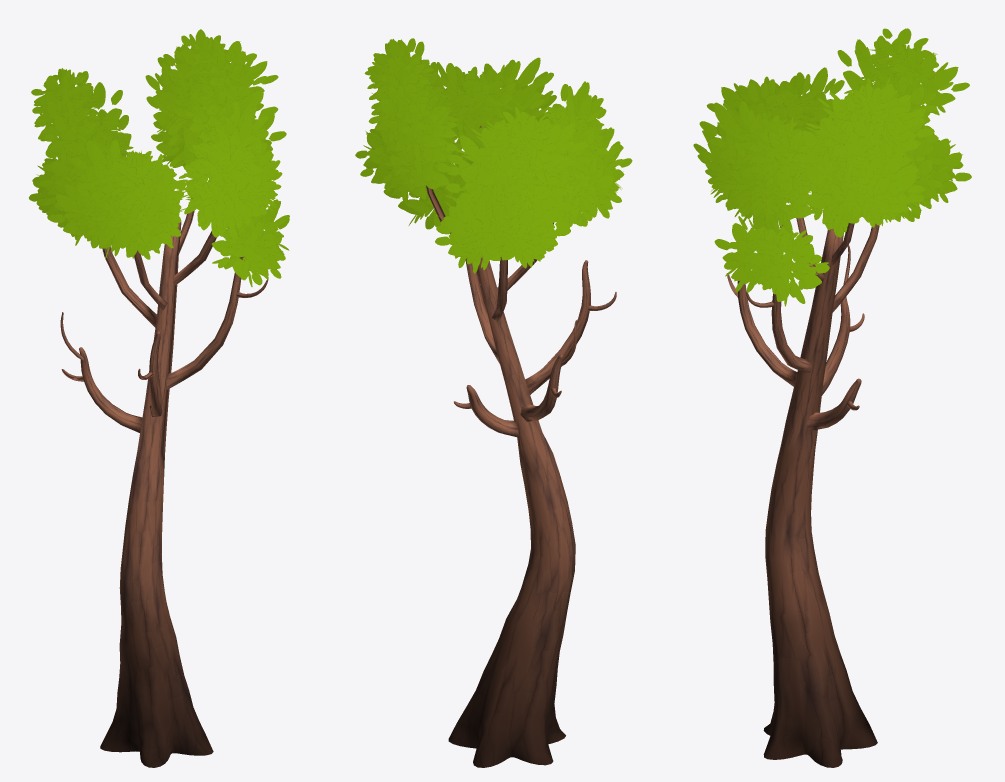
The model's file is CommonTree_4.glb.
3 views of the same model, side by side, from view 1: azimuth 30°, elevation 25°; view 2: azimuth 150°, elevation 25°; view 3: azimuth 270°, elevation 25° (orthographic). The views are drawn at different scales.
Visible parts, largest first — view 1: CommonTree_4; view 2: CommonTree_4; view 3: CommonTree_4.
Part boxes in pixels (bbox=[...]): CommonTree_4: bbox=[29, 29, 289, 767]; CommonTree_4: bbox=[355, 38, 632, 767]; CommonTree_4: bbox=[693, 28, 971, 767].
Size of the model in its own units: 3.83 by 9.44 by 3.76.
Materials: 2 (2 with a texture image).
